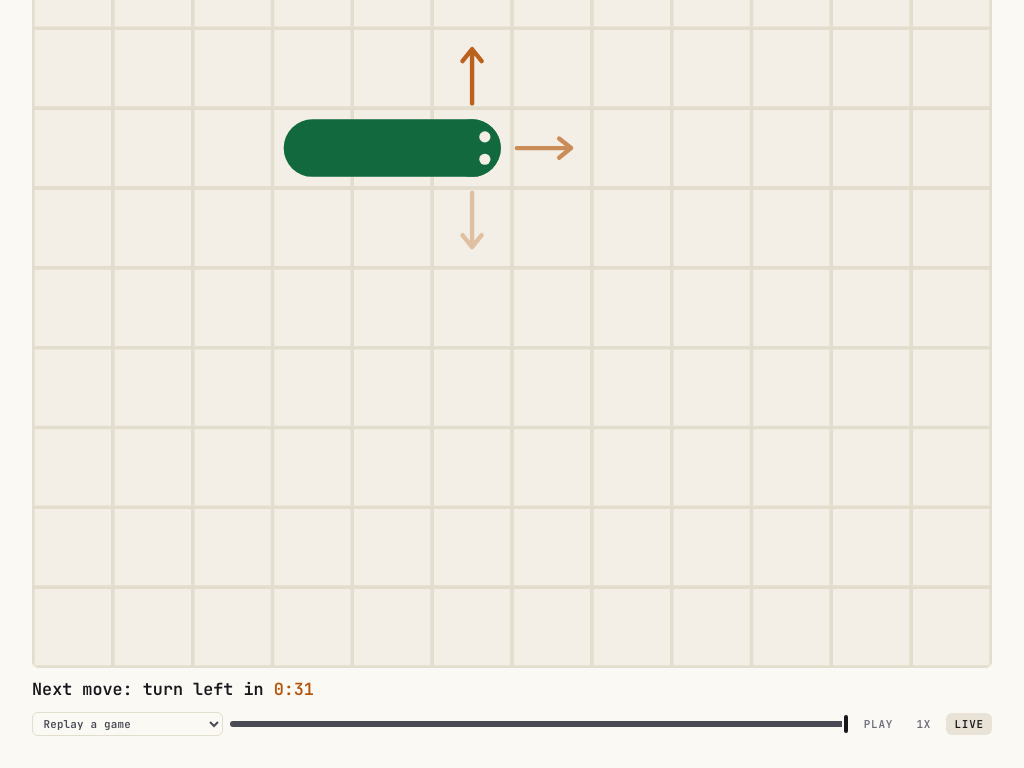
the replay › LIVE RETURNS TO POLLING
The width and height of the screenshot is (1024, 768).
(page scrolled)
Select "Game 1 · 12x12 · best 3" in the dropdown with class "snake-games" at (127, 724), box [32,712,223,736]
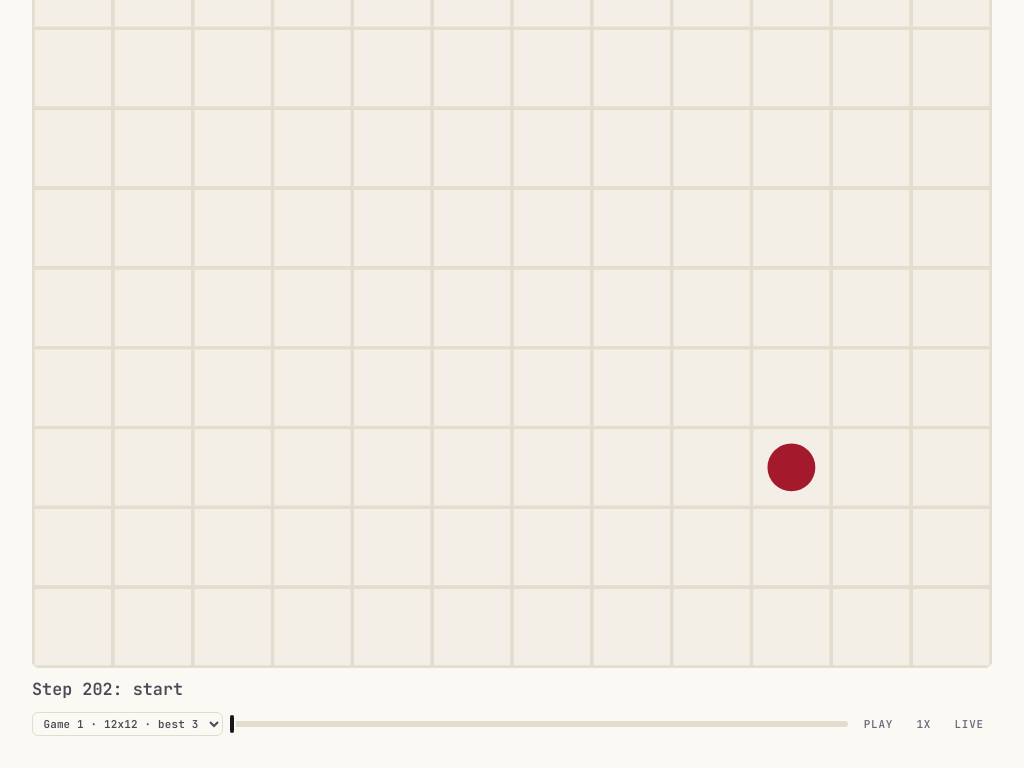
Check: the slider with class "snake-scrub" has attribute max="37"
Set the slider with class "snake-scrub" to "5" at (319, 724), box [230,721,848,727]
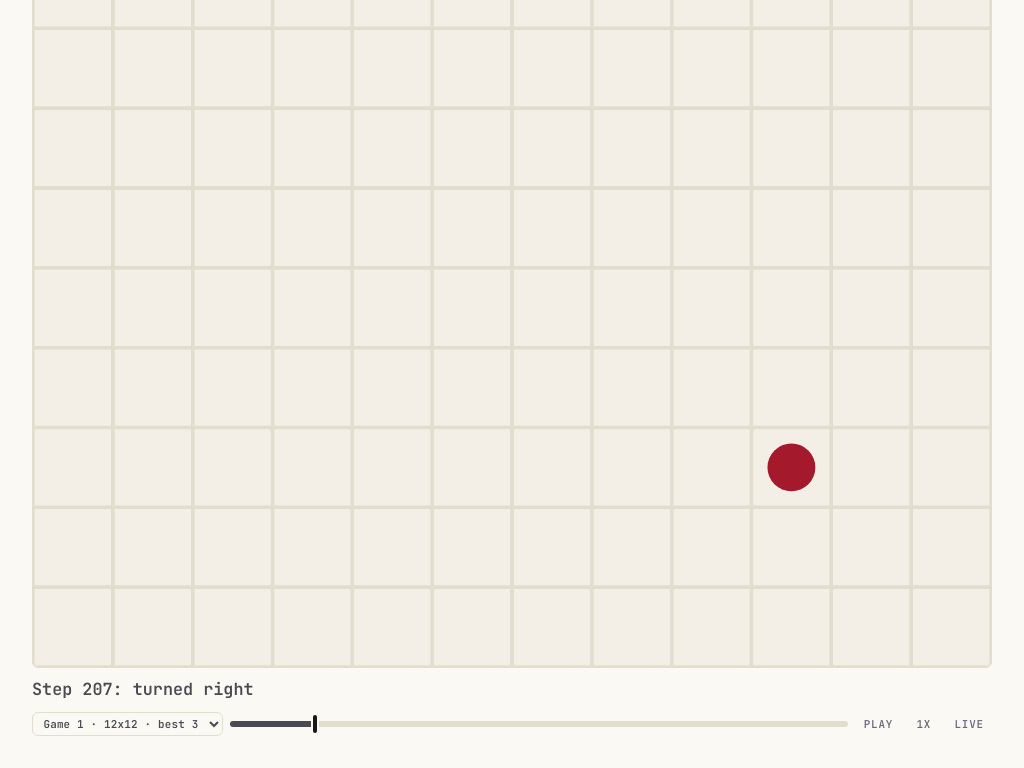
Click the button "Play".
click(878, 724)  # box [856,713,901,735]
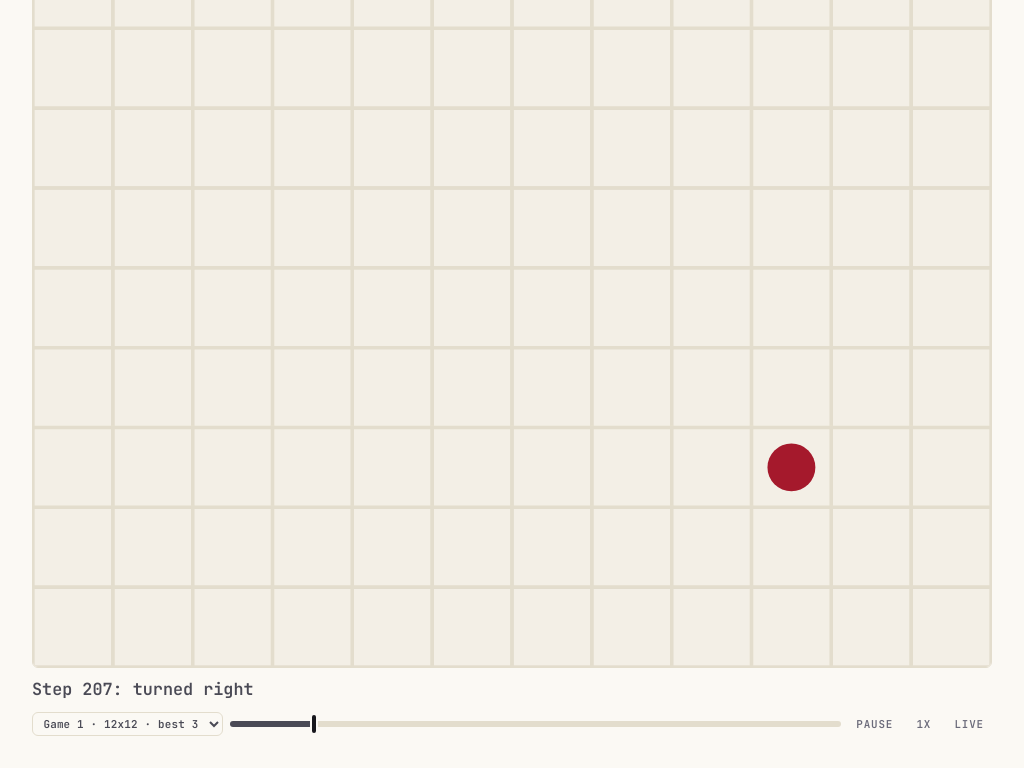
Click the button "Live".
click(969, 724)  # box [946,713,992,735]
Wait 2100 ms
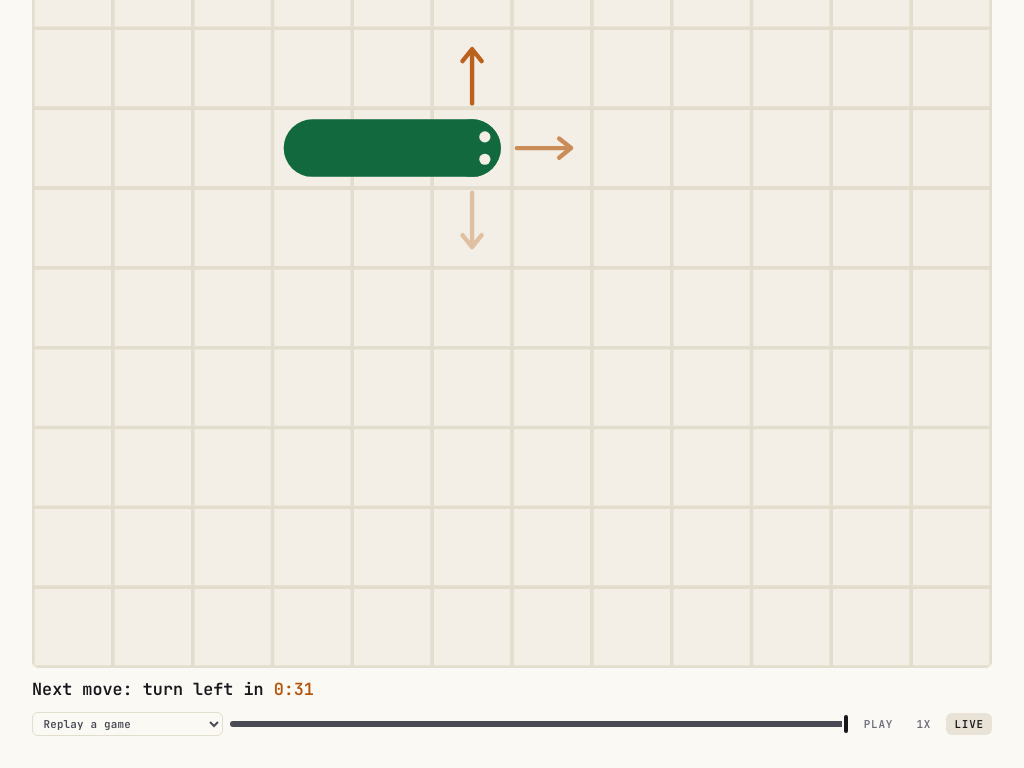
Check: the element with class "snake-next" reads "Next move: turn left in 0:31", box [32,678,314,700]
Check: the button "Play" is shown, box [856,713,901,735]
